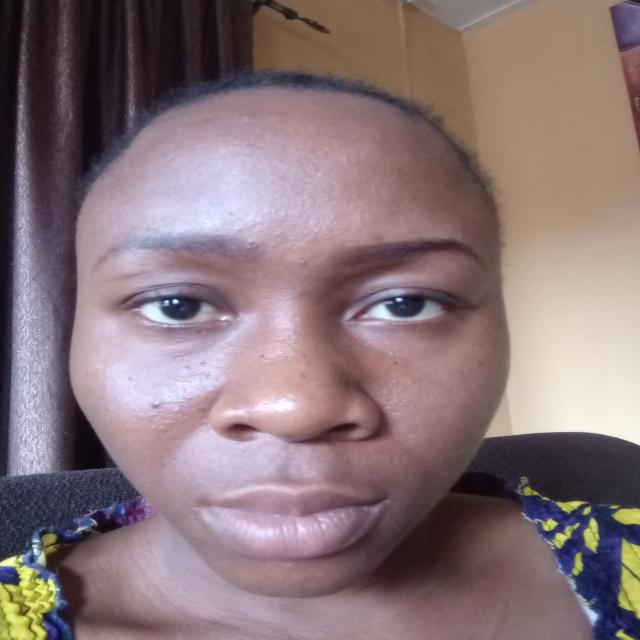Acne: (148, 416, 180, 435), (137, 398, 162, 416), (259, 206, 289, 219), (297, 352, 316, 369), (302, 227, 321, 242), (387, 378, 418, 386), (195, 398, 208, 414), (172, 399, 187, 411), (297, 372, 313, 382), (312, 168, 328, 178), (338, 156, 358, 164), (297, 192, 313, 201), (238, 112, 255, 120), (196, 358, 212, 366), (389, 357, 400, 368), (180, 364, 193, 372), (296, 258, 309, 266), (204, 372, 214, 379)
